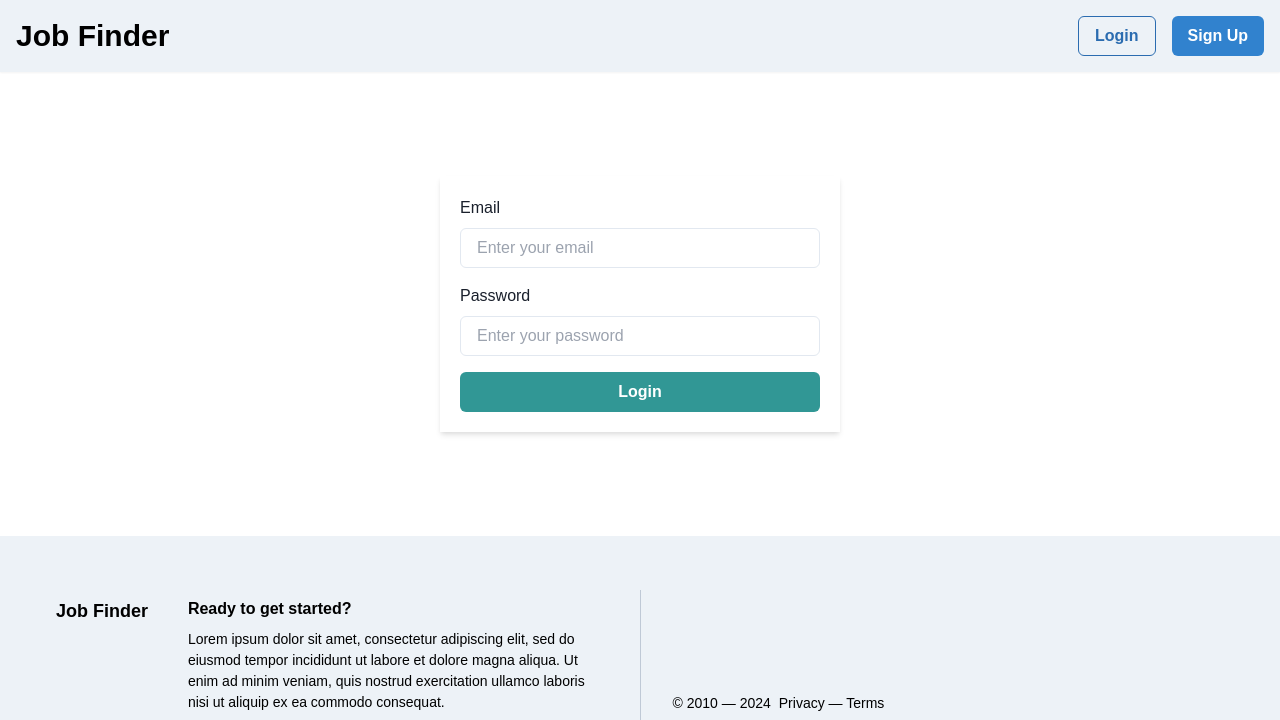
Login Page Tests › should show error messages for invalid input
Click the submit button: [640, 392] box top-left (460, 372), bottom-right (820, 412)
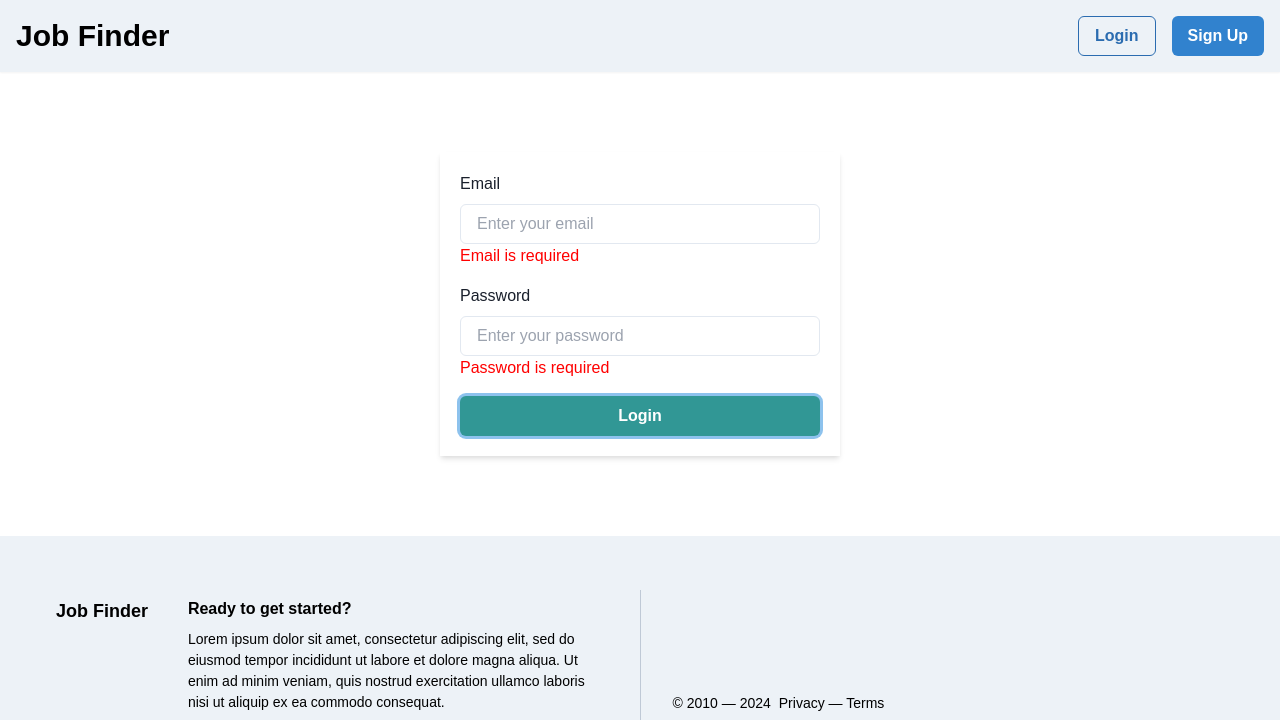
expect the text "Email is required" is shown: met, box top-left (460, 247), bottom-right (579, 264)
expect the text "Password is required" is shown: met, box top-left (460, 359), bottom-right (609, 376)
